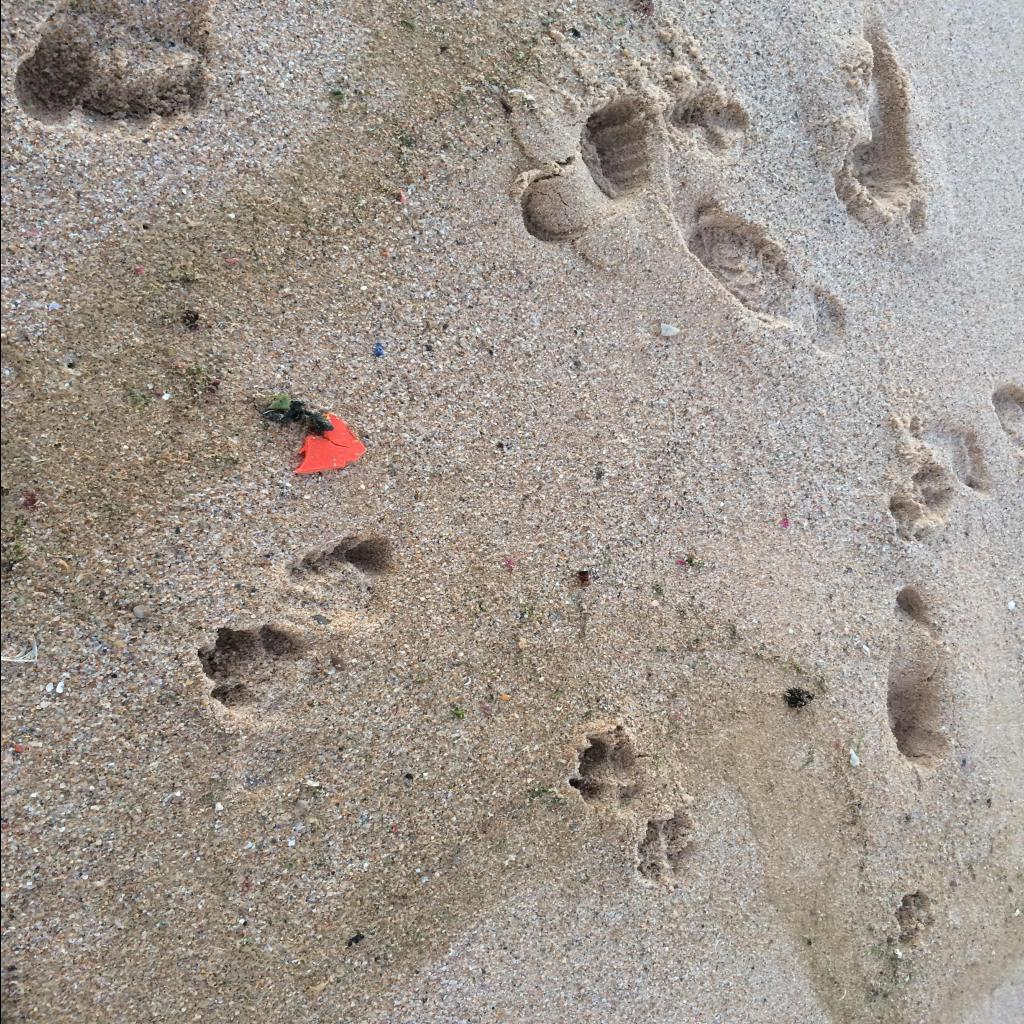Other plastic wrapper: (293, 412, 365, 474), (264, 393, 288, 409)
